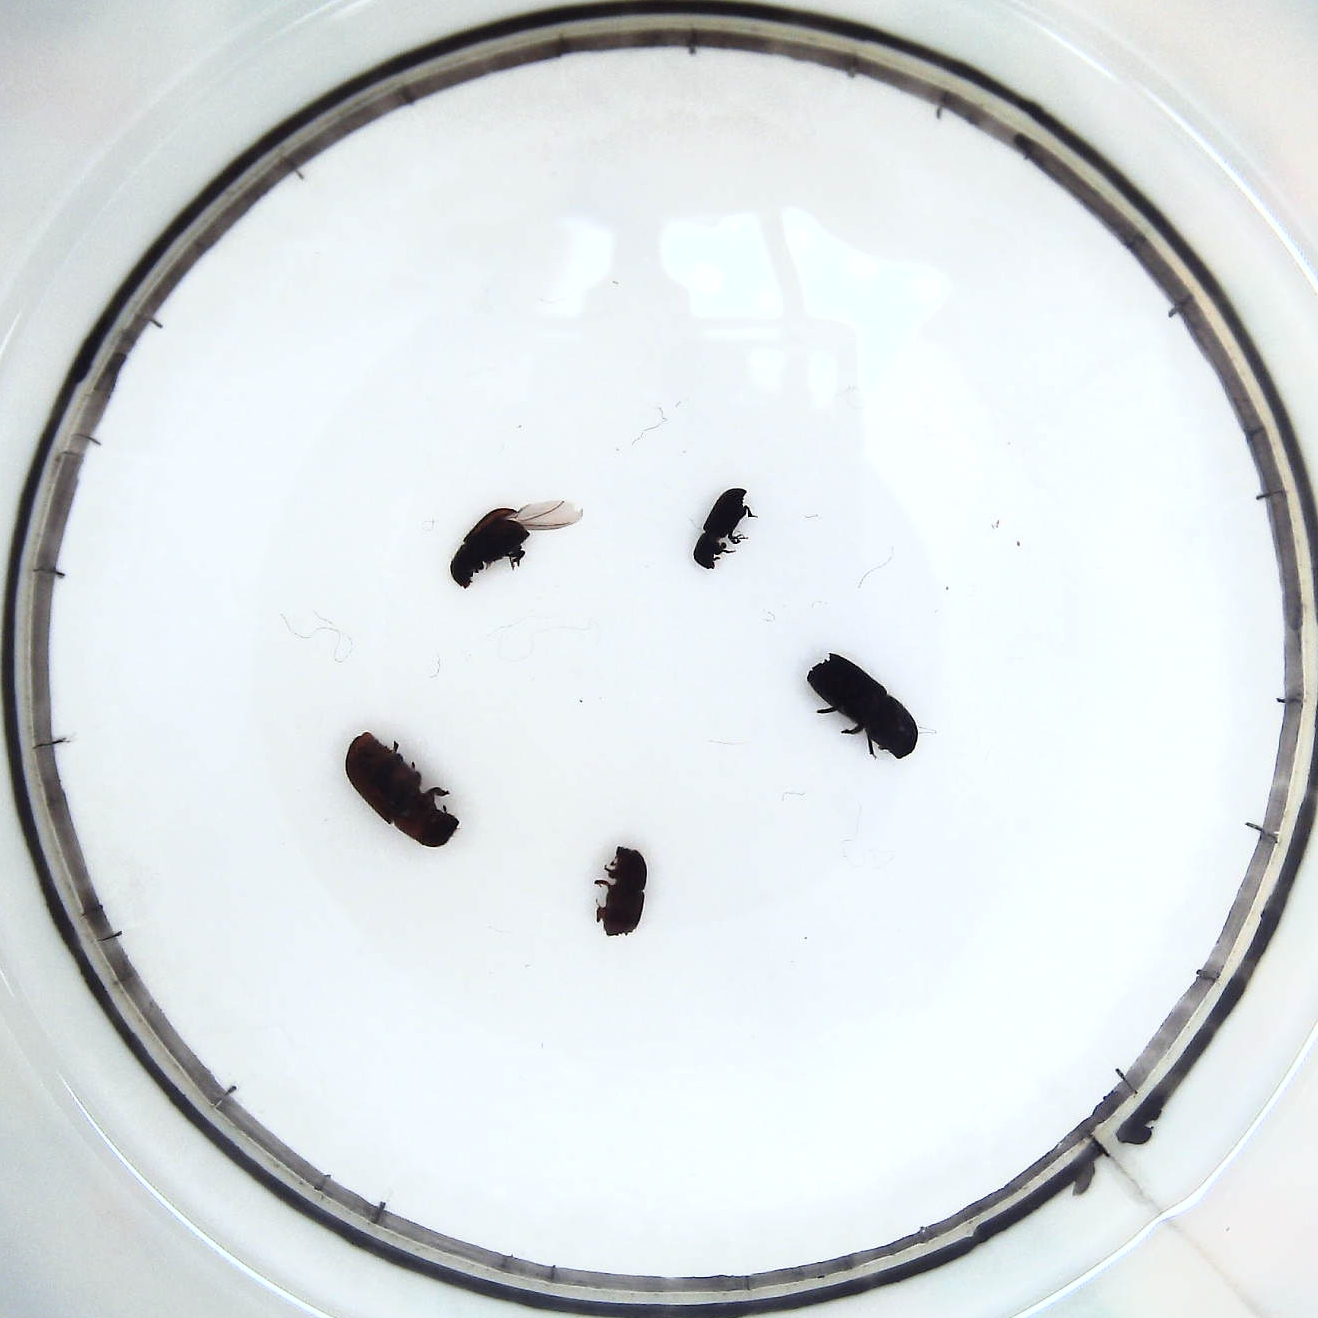Boerner: (807, 648, 922, 765)
Leconte: (339, 727, 459, 853)
armandi: (447, 492, 578, 591)
coleoptera: (690, 480, 756, 573)
linnaeus: (595, 838, 651, 943)
